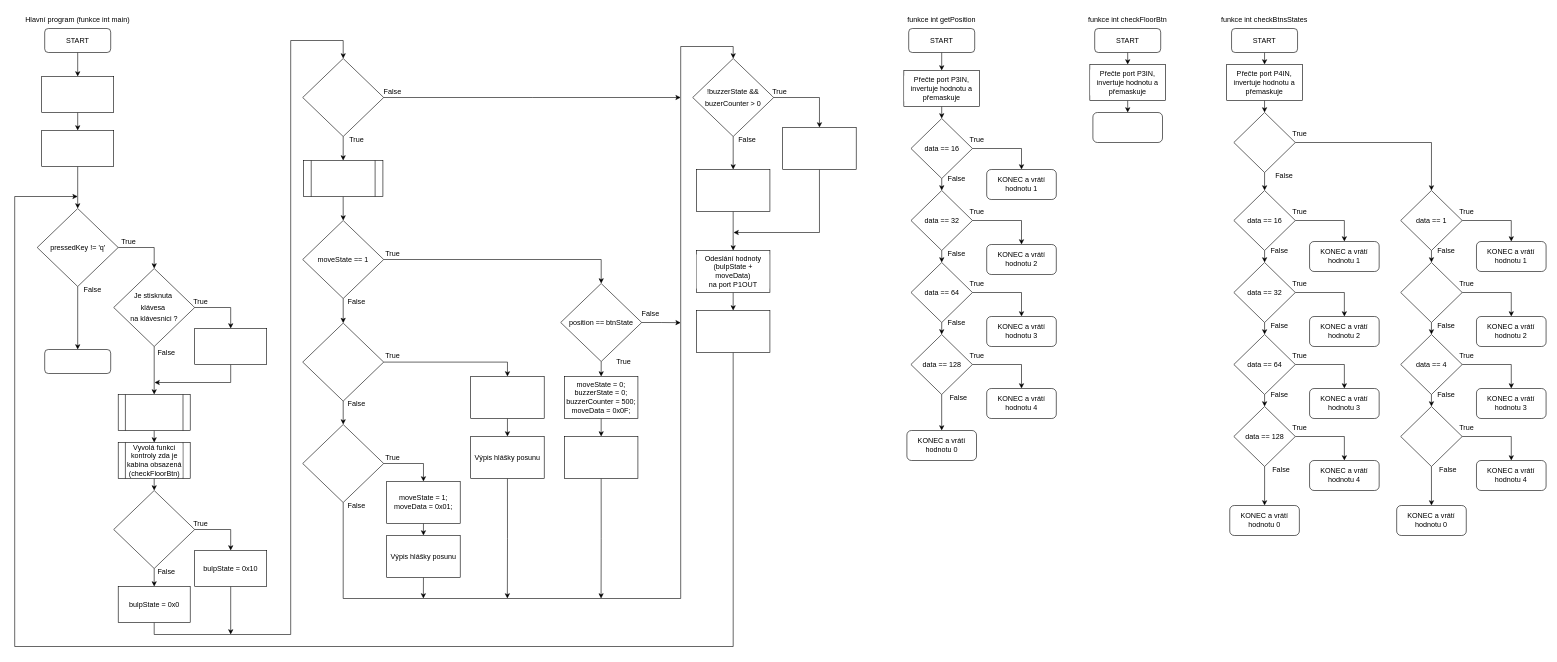
Image size: 1557x662. Some labels were removed from this diagram. The shapes that lost their labels are listed below. From the top down, each one's centre as x and y in pixels, then its label:
At point 77,94: "Vypnutí všech výstupních portů (odešle 0xFF)".
At point 343,97: "Jsou dvířka zavřená?".
At point 1127,127: "KONEC a vrátí přemaskovanou hodnotu".
At point 1264,142: "!floorState".
At point 77,148: "Inicializace a výpis zapínací hlášky".
At point 819,148: "buzzerCounter--;".
At point 343,178: "Vyvolá funkci zjištění stavu tlačítek (checkBtnsStates)".
At point 733,190: "buzzerState = 0x08".
At point 1431,292: "data == 2".
At point 230,346: "Zapíše hodnotu klávesy do proměnné pressedKey".
At point 733,331: "Odeslání hodnoty (buzzerState + position) na port P2OUT".
At point 77,361: "KONEC".
At point 343,361: "position < btnState".
At point 154,412: "Vyvolá funkci zjištění pozice (getPosition)".
At point 507,397: "moveState = 1; moveData = 0x0A;".
At point 1431,436: "data == 8".
At point 343,463: "position > btnState".
At point 601,457: "Výpis hlášky přijetí do patra".
At point 154,529: "Je kabina obsazená?".
